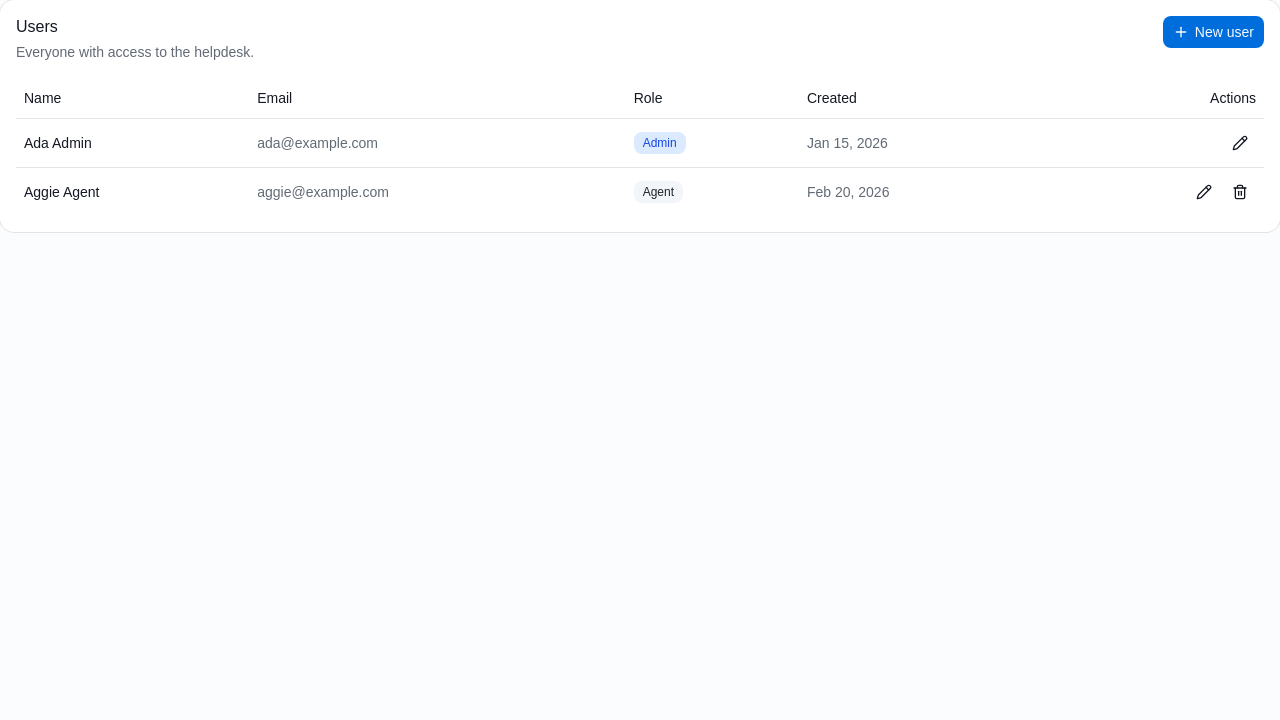
UsersPage › the New user dialog › closes when the close button is clicked
Click the button "New user". click: (1213, 32)
box: 1163,16 -> 1264,48
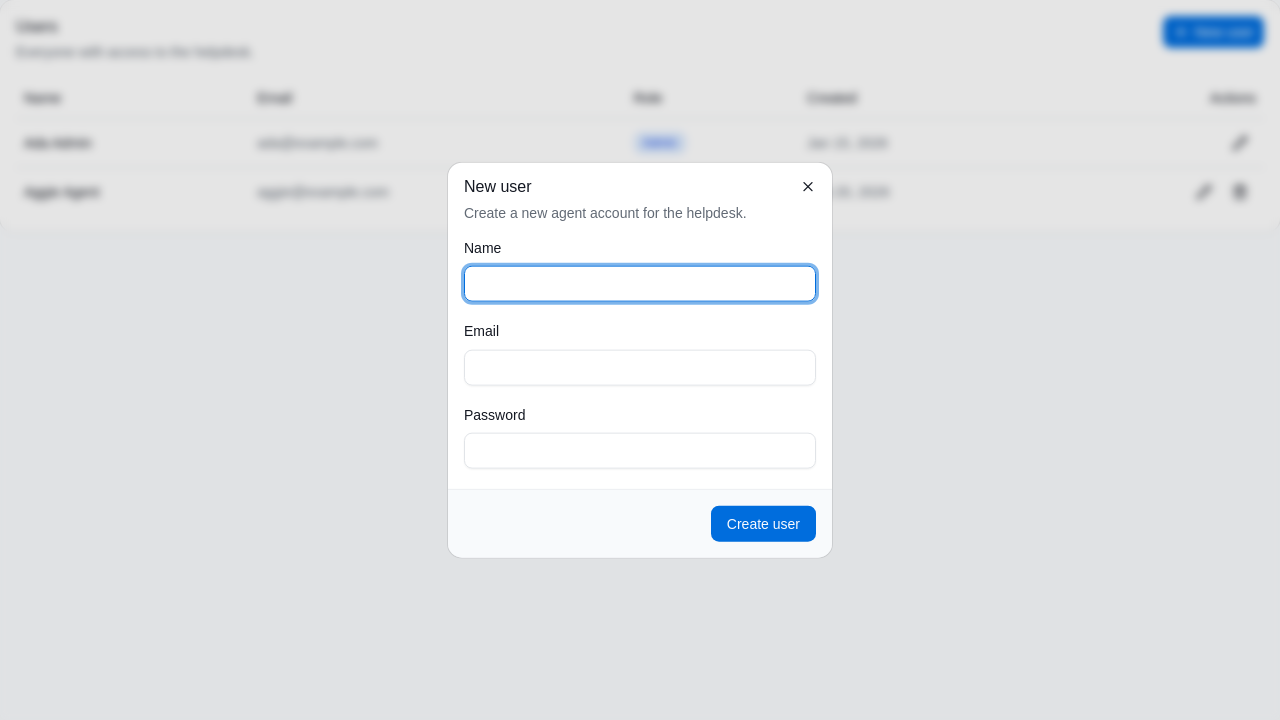
Click the button named "close". click: (808, 187)
box: 792,171 -> 824,203
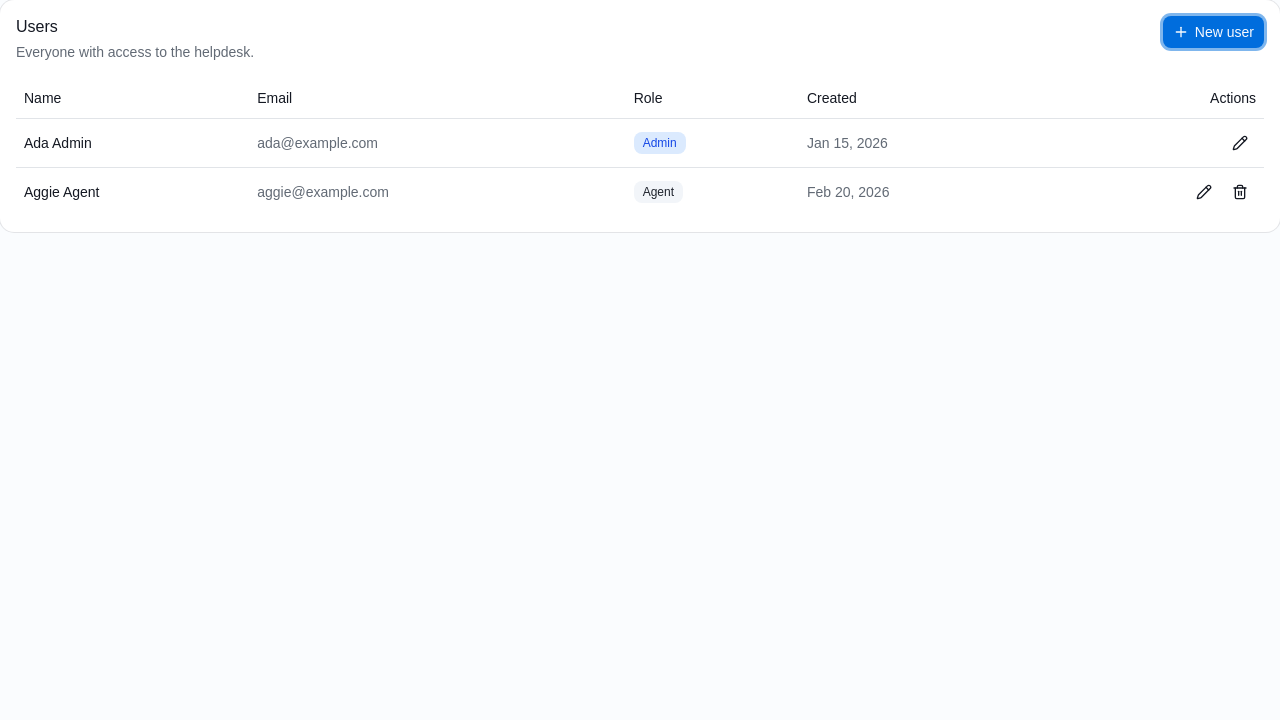
Check: the dialog is gone
